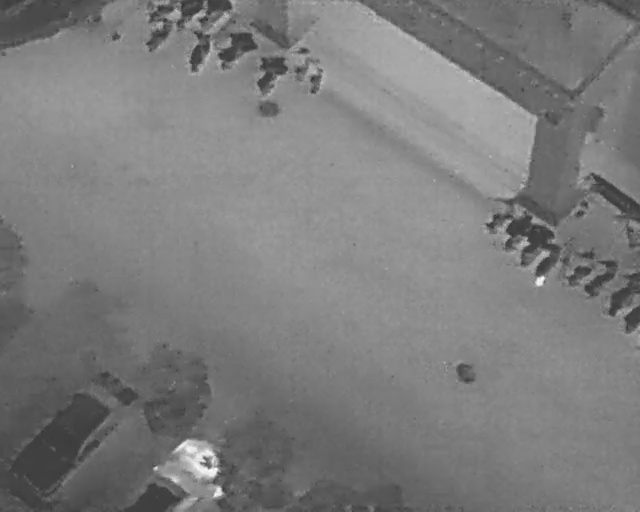Bicycle: (206, 19, 262, 77), (507, 216, 561, 272), (574, 250, 625, 306), (489, 204, 541, 258), (555, 240, 605, 294), (521, 235, 568, 291), (476, 191, 523, 240), (249, 49, 292, 101), (178, 24, 218, 77), (138, 9, 178, 58), (607, 268, 640, 317), (285, 48, 321, 85), (197, 0, 233, 29), (174, 0, 202, 30), (305, 62, 327, 98), (147, 0, 175, 25), (622, 303, 639, 333)
Car: (0, 361, 150, 511), (123, 435, 228, 511)
